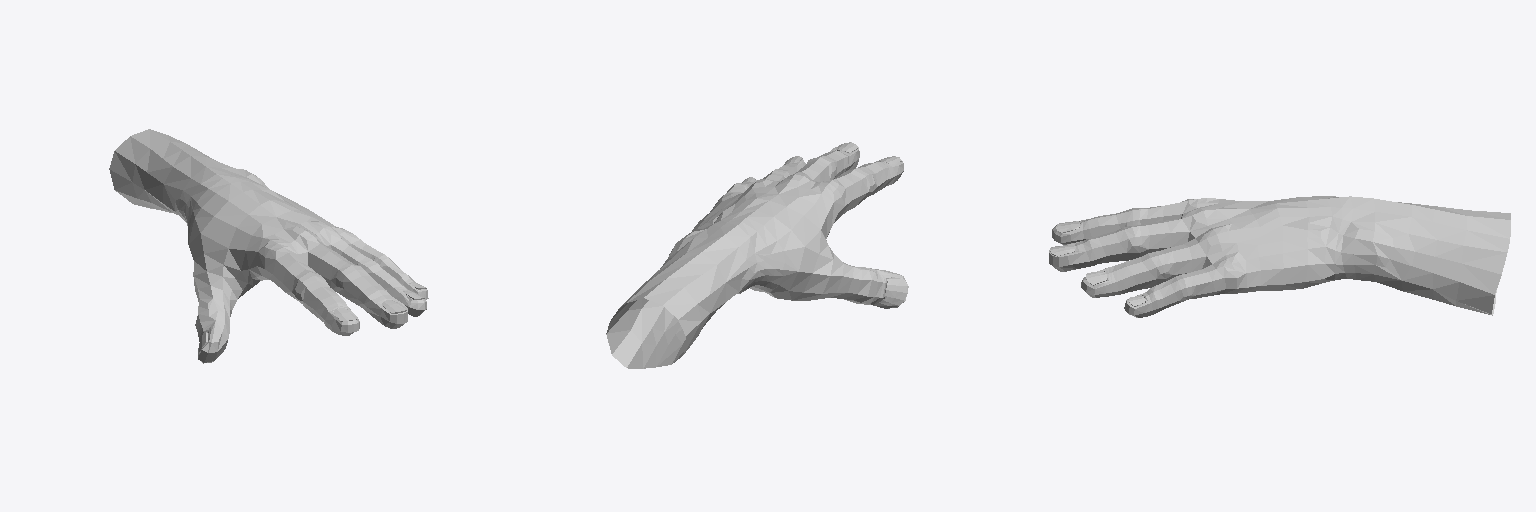
File: 4_2_HandSmoothLeftBack.obj
3 views of the same model, side by side, from view 1: azimuth 30°, elevation 25°; view 2: azimuth 150°, elevation 25°; view 3: azimuth 270°, elevation 25° (orthographic).
Visible parts, largest first — view 1: hand1_polySurface891; view 2: hand1_polySurface891; view 3: hand1_polySurface891.
Part boxes in pixels (bbox=[...]): hand1_polySurface891: bbox=[109, 129, 428, 363]; hand1_polySurface891: bbox=[606, 142, 908, 368]; hand1_polySurface891: bbox=[1049, 196, 1510, 317].
Size of the model in its own units: 0.0875 by 0.0487 by 0.1779.